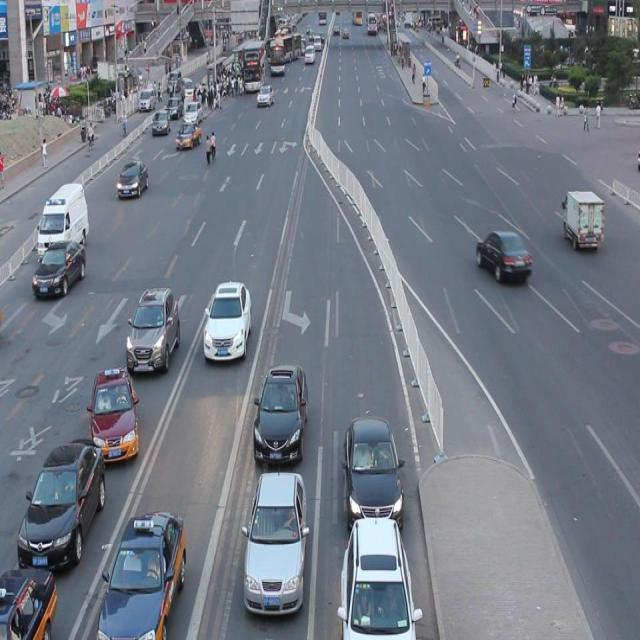bus: (562, 187, 603, 249)
car: (93, 508, 187, 640), (19, 432, 106, 568), (339, 515, 417, 640), (242, 470, 307, 618), (342, 415, 403, 532), (251, 363, 308, 465), (124, 286, 180, 376), (88, 367, 138, 464), (1, 565, 56, 640), (202, 278, 250, 362), (32, 238, 87, 298), (476, 228, 532, 283), (116, 158, 148, 200)
truck: (37, 181, 89, 260)
